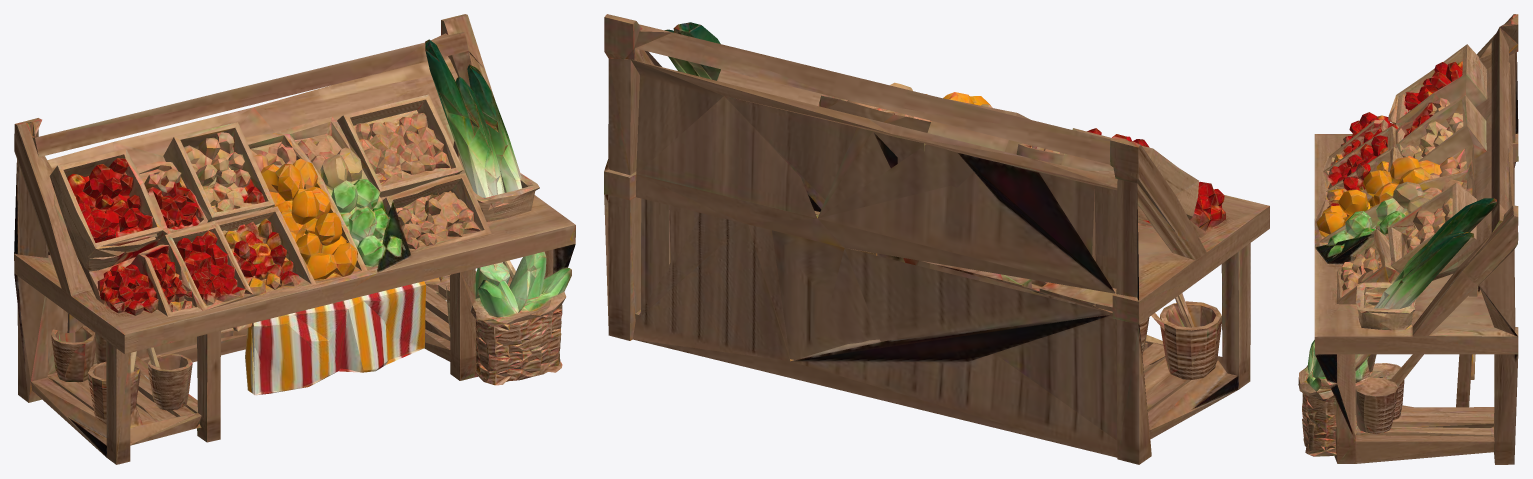
Rendered from counter.glb.
3 views of the same model, side by side, from view 1: azimuth 30°, elevation 25°; view 2: azimuth 150°, elevation 25°; view 3: azimuth 270°, elevation 25° (orthographic). The views are drawn at different scales.
Bounding box in the file's own units: 1.9 × 1.09 × 0.8668.
1 material, 1 textured.
